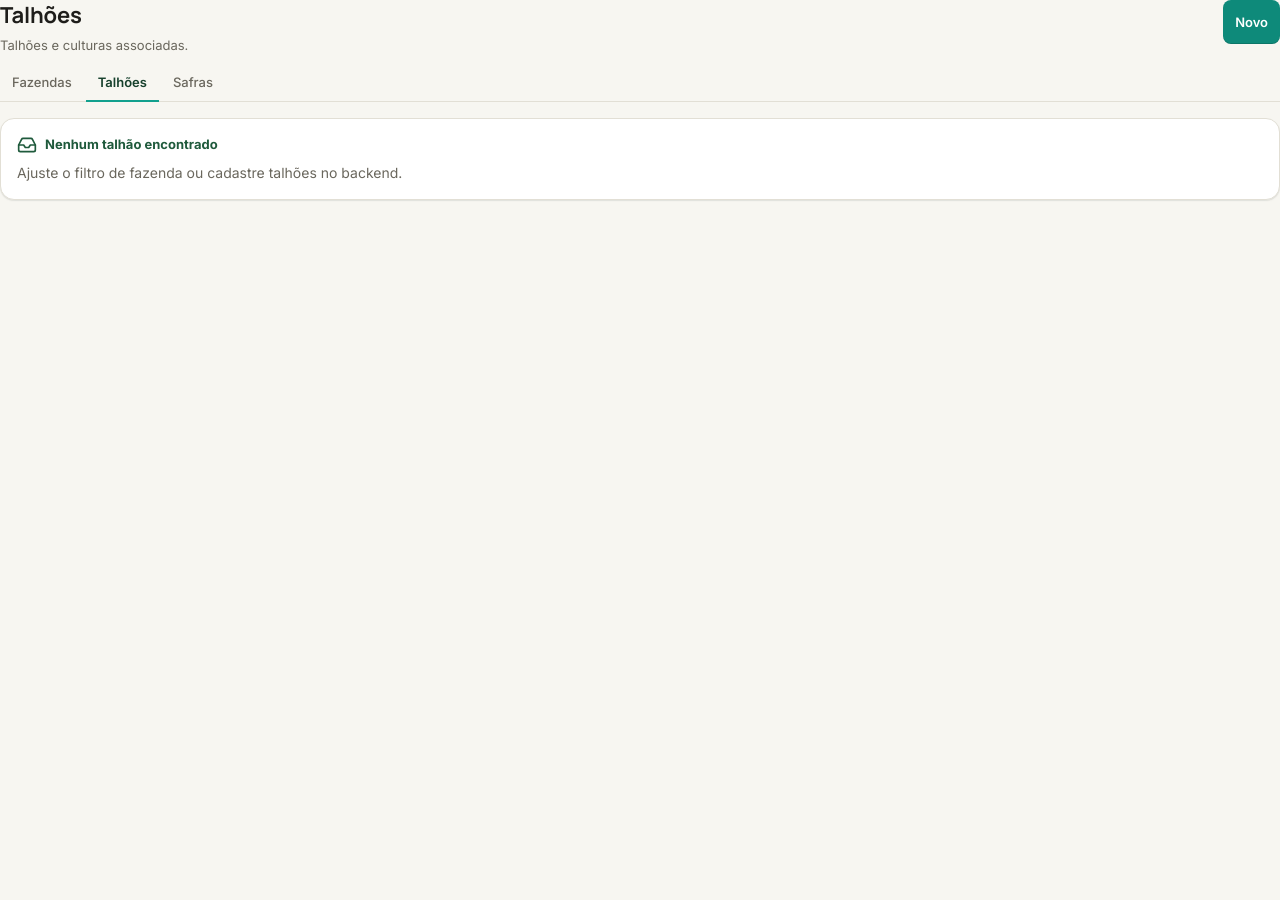
Test: FieldsPage › creates a field through the gateway client
Click the button "Novo".
click(1252, 22)  # box [1223,0,1279,44]
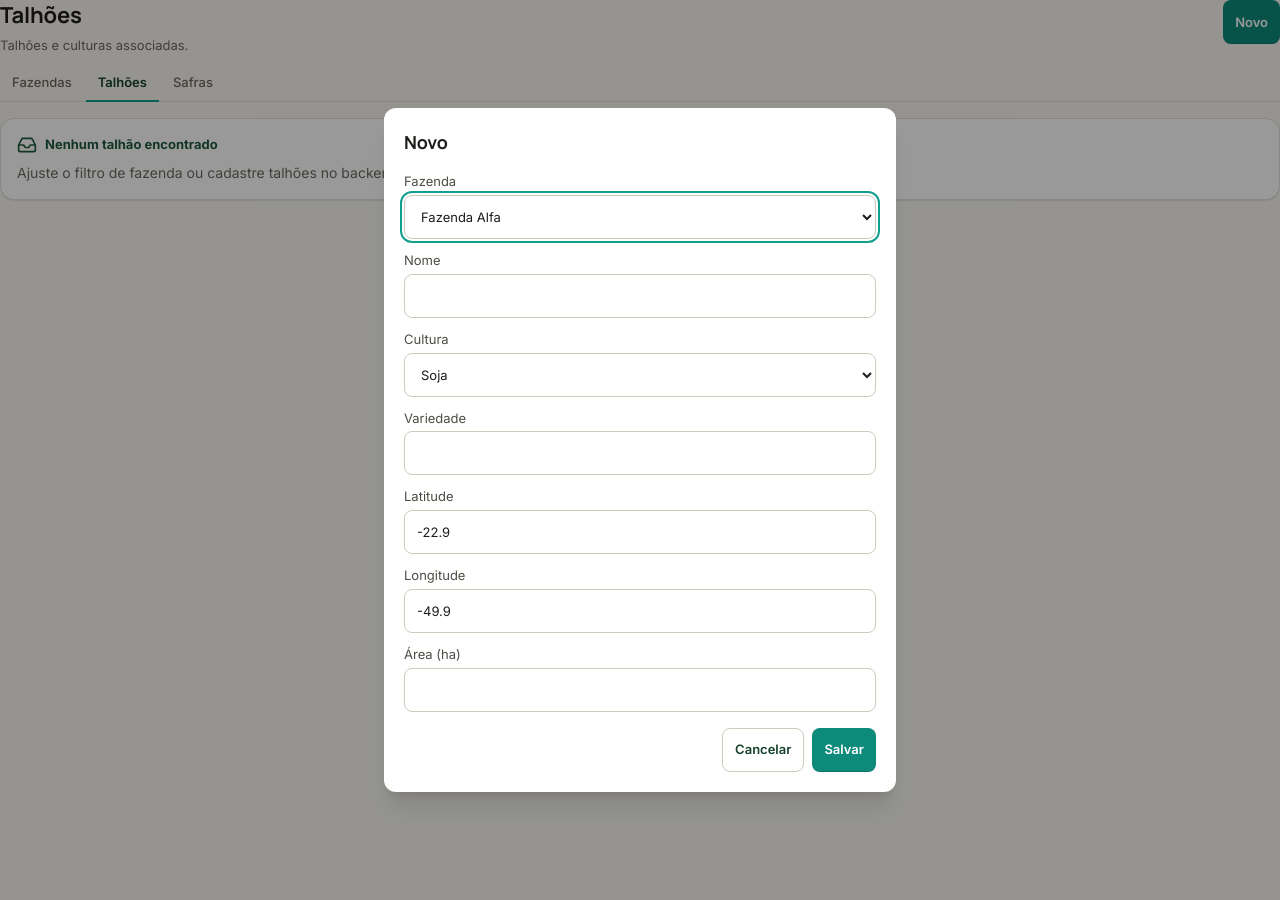
Expected: the dropdown labelled "Fazenda" shows "Fazenda Alfa", [404,195,876,239]
Type "Norte" into the field labelled "Nome".
click(640, 296); type("Norte")  # box [404,274,876,318]
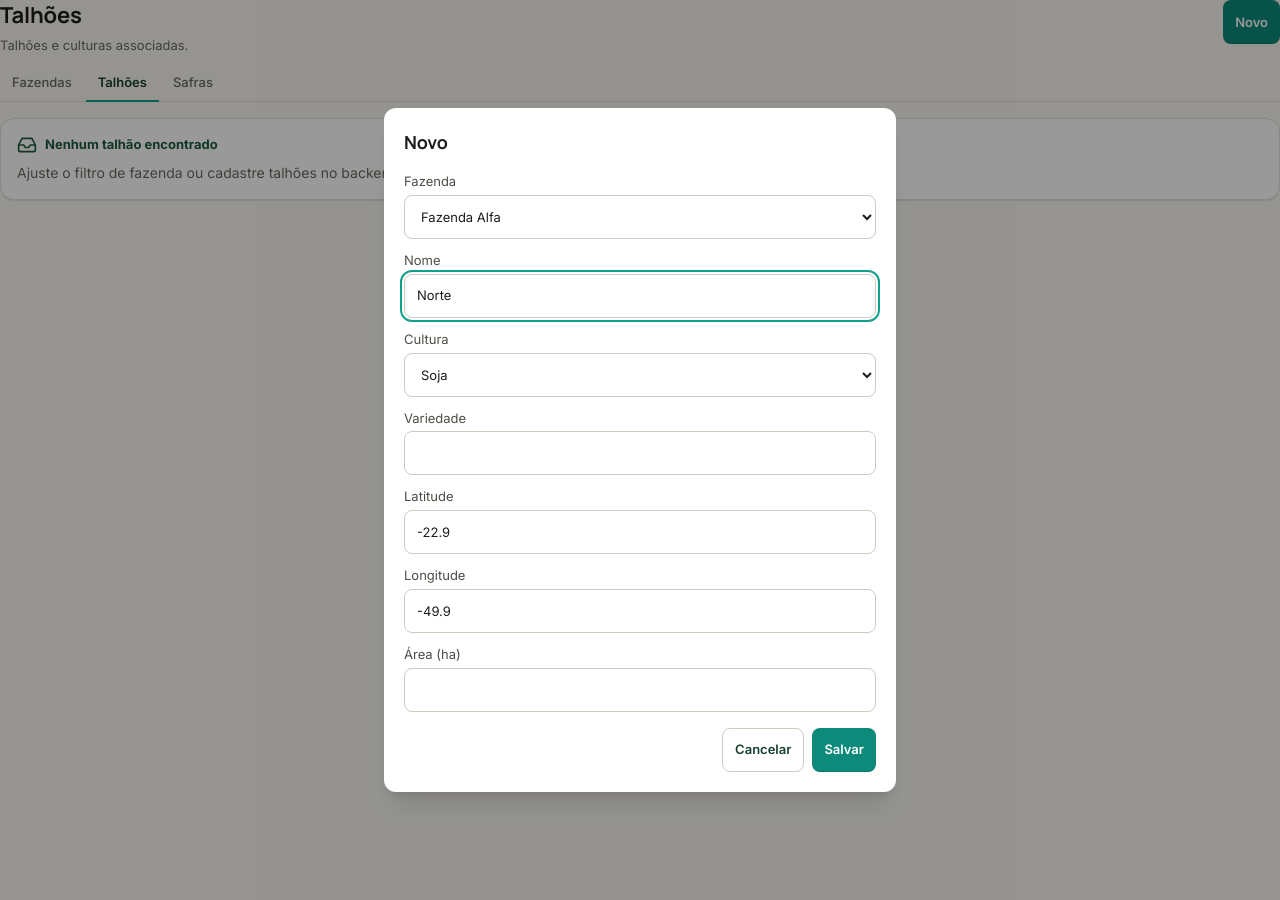
Type "12.5" into the number field labelled "Área (ha)".
click(640, 690); type("12.5")  # box [404,668,876,712]
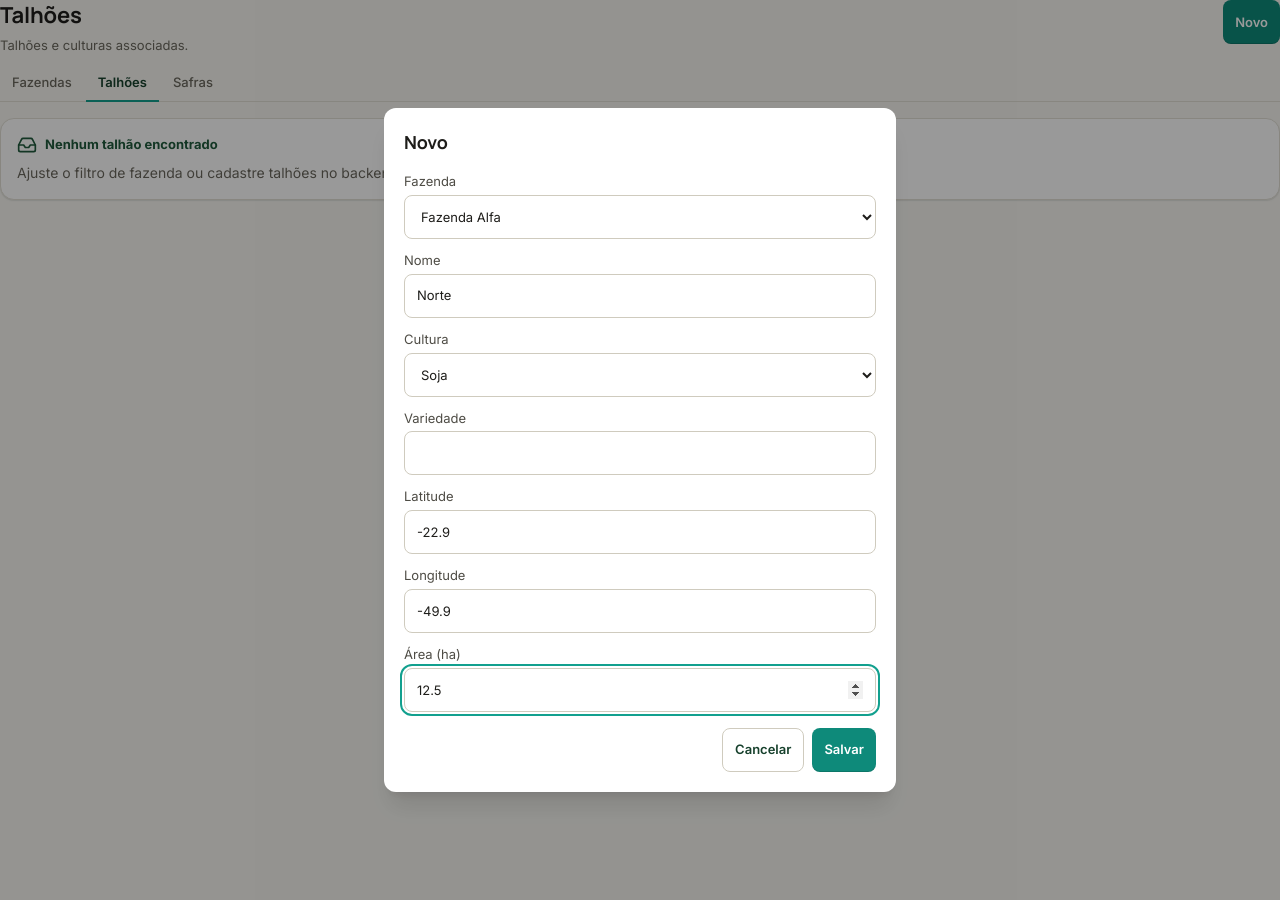
Click the button "Salvar".
click(844, 750)  # box [812,728,876,772]
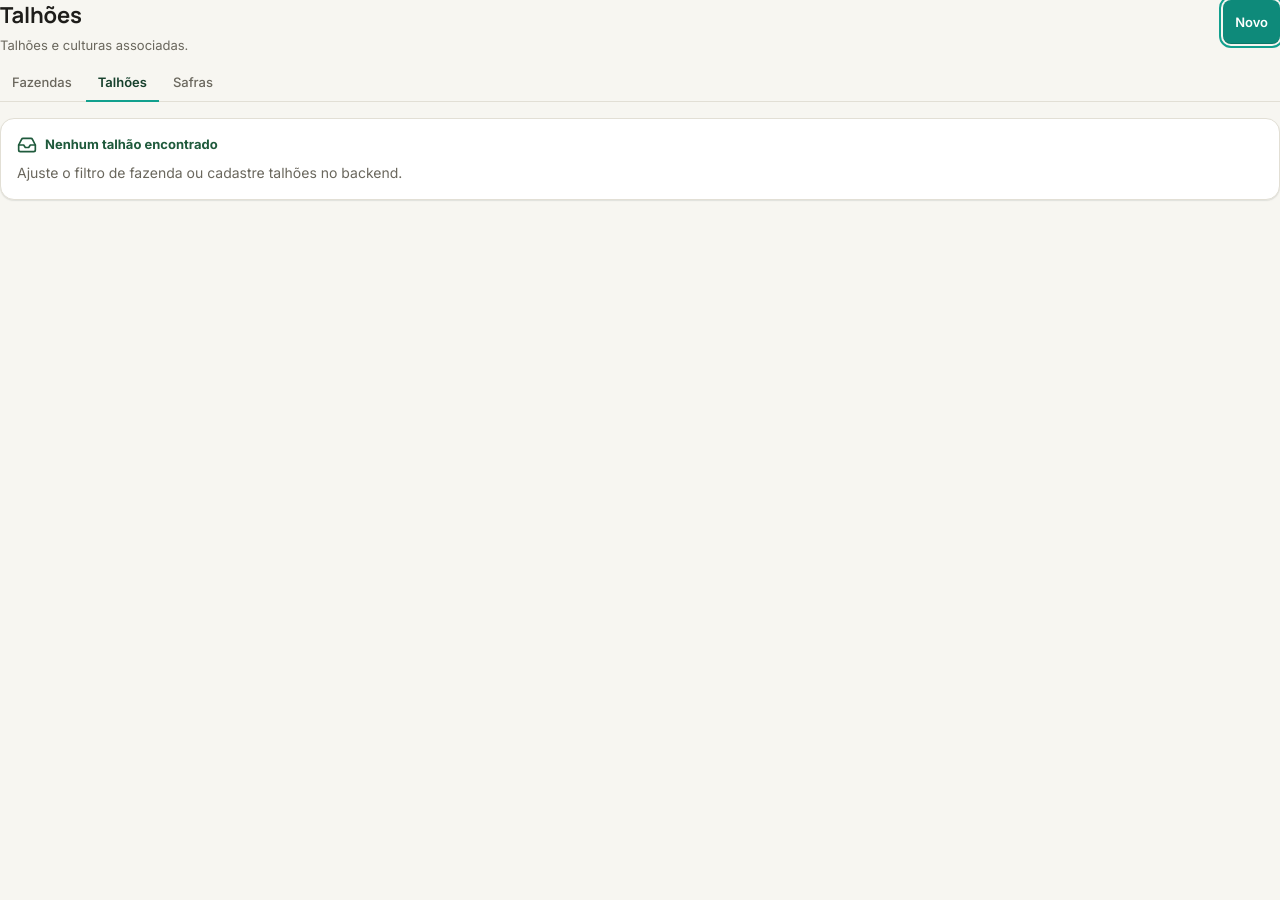
Expected: the dialog is gone
